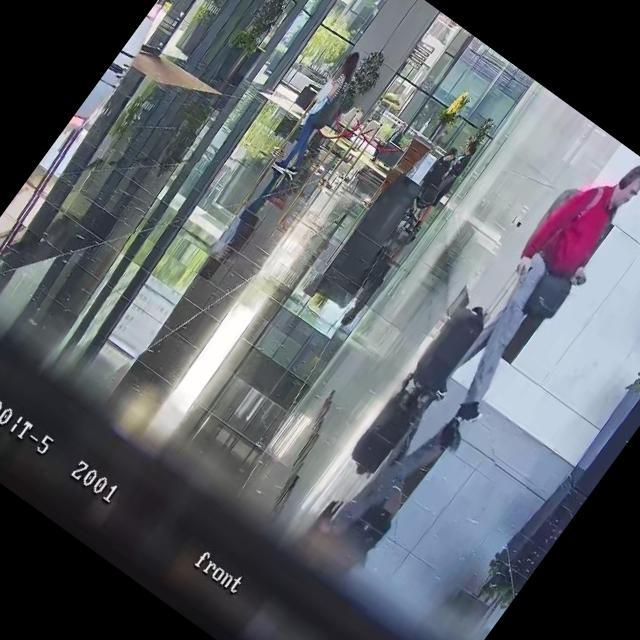person: (417, 137, 640, 436), (266, 45, 375, 178), (402, 136, 483, 238), (367, 116, 411, 167), (421, 142, 461, 189)
